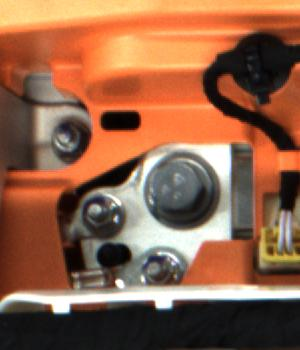nut_b: (140, 149, 218, 230)
screw_s: (135, 246, 178, 287), (78, 191, 121, 230), (46, 119, 84, 158)
